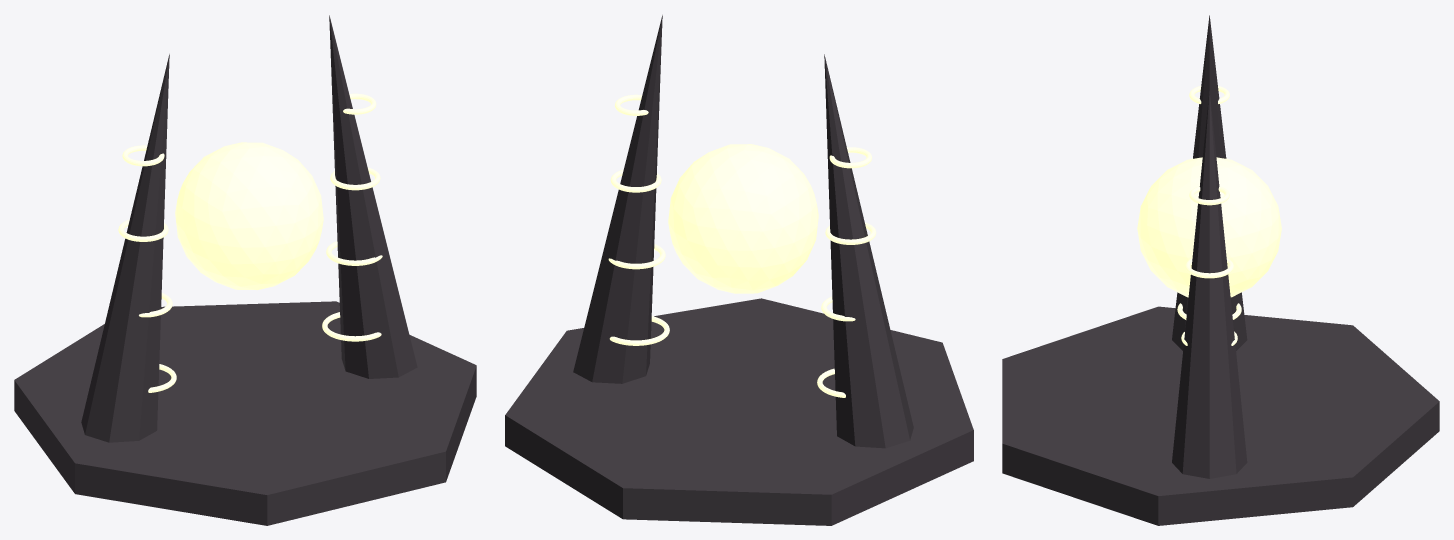
File: Portal_Abismo_Infinito.fbx
3 views of the same model, side by side, from view 1: azimuth 30°, elevation 25°; view 2: azimuth 150°, elevation 25°; view 3: azimuth 270°, elevation 25° (orthographic). The views are drawn at different scales.
Parts seen in each view (by area): view 1: P6_Base_Basalto, P6_Fisura_Abisal, P6_Cuerno_Abisal_-1.8, P6_Cuerno_Abisal_1.8; view 2: P6_Base_Basalto, P6_Fisura_Abisal, P6_Cuerno_Abisal_-1.8, P6_Cuerno_Abisal_1.8; view 3: P6_Base_Basalto, P6_Cuerno_Abisal_1.8, P6_Fisura_Abisal, P6_Cuerno_Abisal_-1.8.
Part boxes in pixels (<box>): P6_Base_Basalto: <box>14,301,476,525</box>; P6_Fisura_Abisal: <box>175,142,323,290</box>; P6_Cuerno_Abisal_-1.8: <box>81,54,169,442</box>; P6_Cuerno_Abisal_1.8: <box>329,15,417,378</box>; P6_Base_Basalto: <box>505,298,973,525</box>; P6_Fisura_Abisal: <box>668,144,818,293</box>; P6_Cuerno_Abisal_-1.8: <box>824,54,913,448</box>; P6_Cuerno_Abisal_1.8: <box>573,15,662,383</box>; P6_Base_Basalto: <box>1002,306,1439,525</box>; P6_Cuerno_Abisal_1.8: <box>1172,90,1247,478</box>; P6_Fisura_Abisal: <box>1137,157,1281,297</box>; P6_Cuerno_Abisal_-1.8: <box>1172,15,1247,350</box>.
Bounding box in the file's own units: 682 × 637 × 665.
